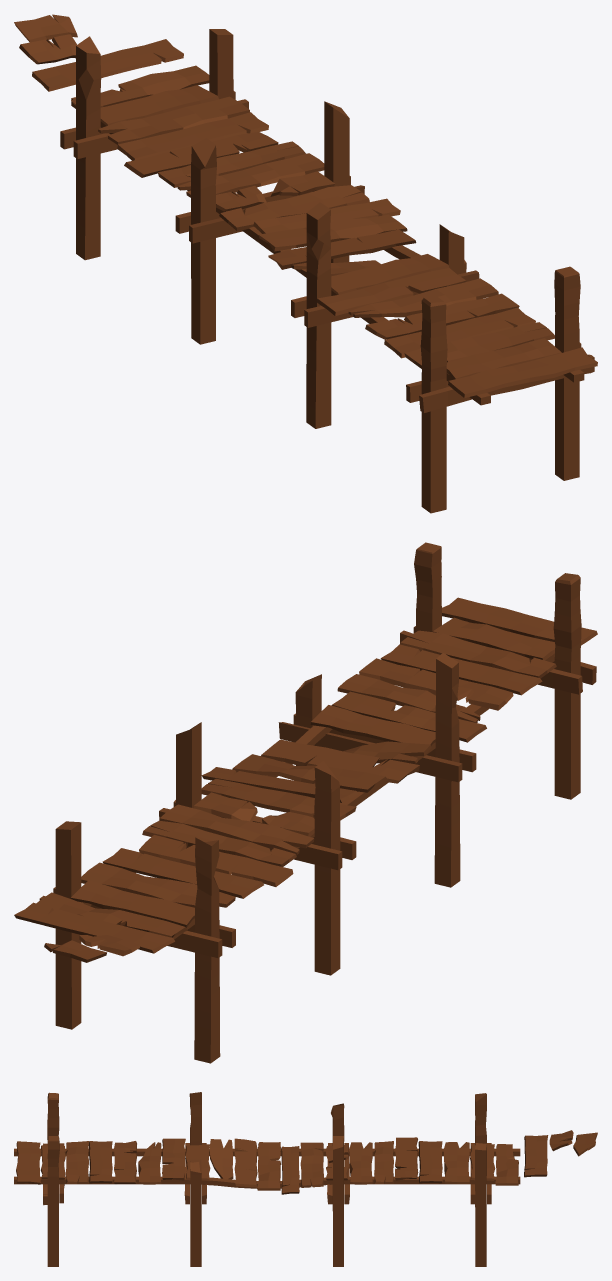
The model's file is moloA.fbx.
3 renders of one model, top to bottom at view 1: azimuth 30°, elevation 25°; view 2: azimuth 150°, elevation 25°; view 3: azimuth 270°, elevation 25°, orthographic. The views are drawn at different scales.
Visible parts, largest first — view 1: molo_joined; view 2: molo_joined; view 3: molo_joined.
Boxes of the visible parts, <box> form: molo_joined: <box>14,14,597,513</box>; molo_joined: <box>14,542,597,1063</box>; molo_joined: <box>14,1092,597,1266</box>.
Bounding box in the file's own units: 259 × 311 × 1229.
